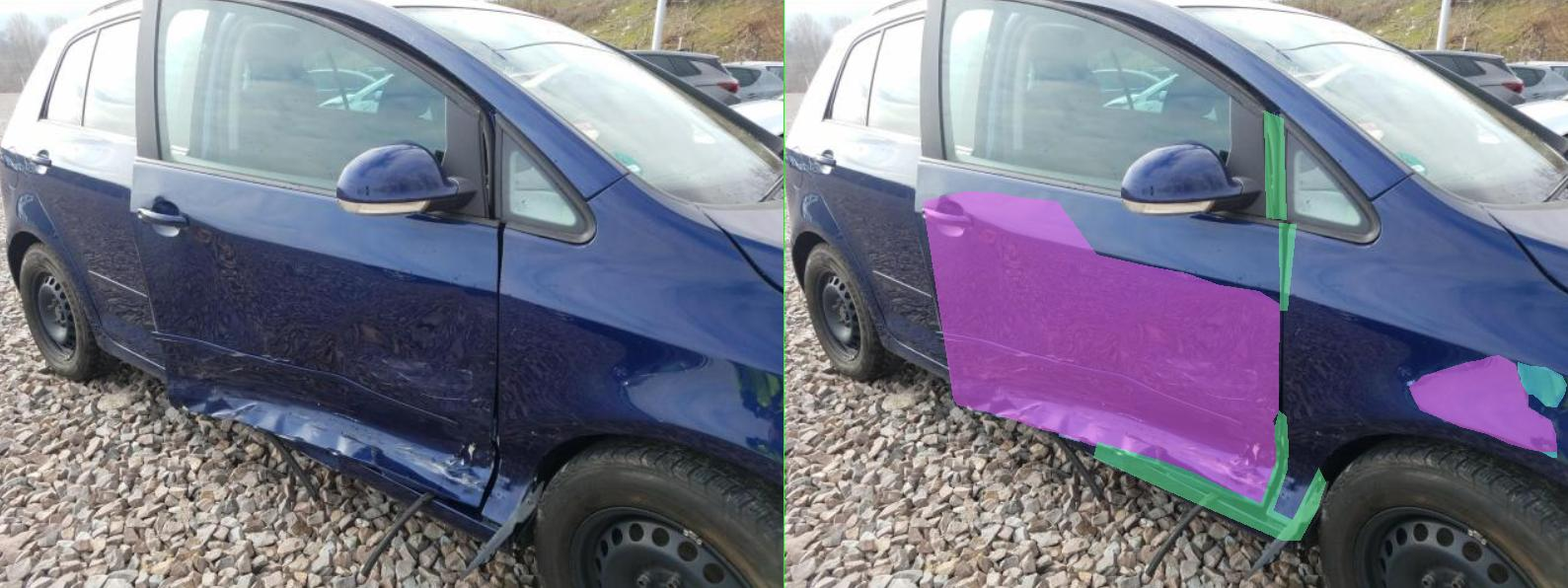Broken part: (618, 442, 1082, 540), (948, 410, 1007, 517), (960, 110, 1003, 219), (989, 223, 1023, 310)
Dent: (276, 191, 991, 508), (1250, 355, 1544, 451)
Flaking: (1467, 362, 1564, 406), (1513, 443, 1544, 457)
Scratch: (796, 444, 958, 488), (806, 361, 946, 381), (762, 359, 818, 382), (423, 403, 513, 416), (841, 391, 924, 403), (519, 351, 579, 364), (666, 411, 723, 422), (928, 441, 956, 461), (895, 454, 932, 468), (993, 435, 1003, 473), (549, 433, 590, 441), (460, 351, 492, 358), (1246, 380, 1262, 387), (944, 399, 962, 404)
